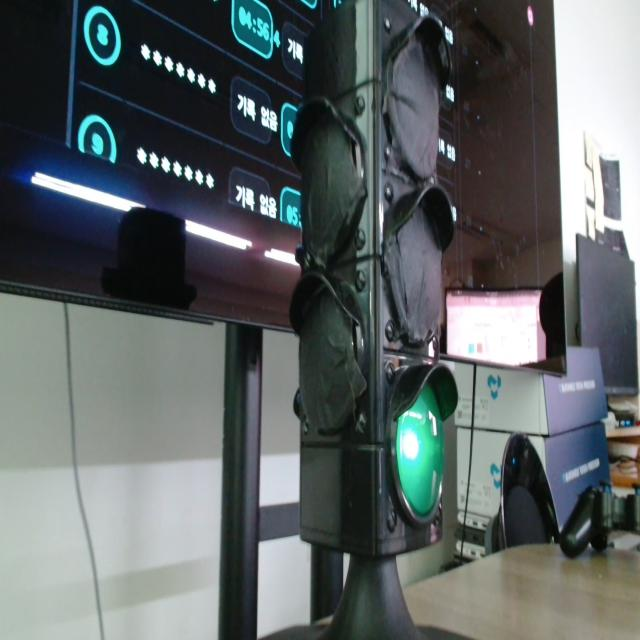green_light: (396, 384, 443, 517)
